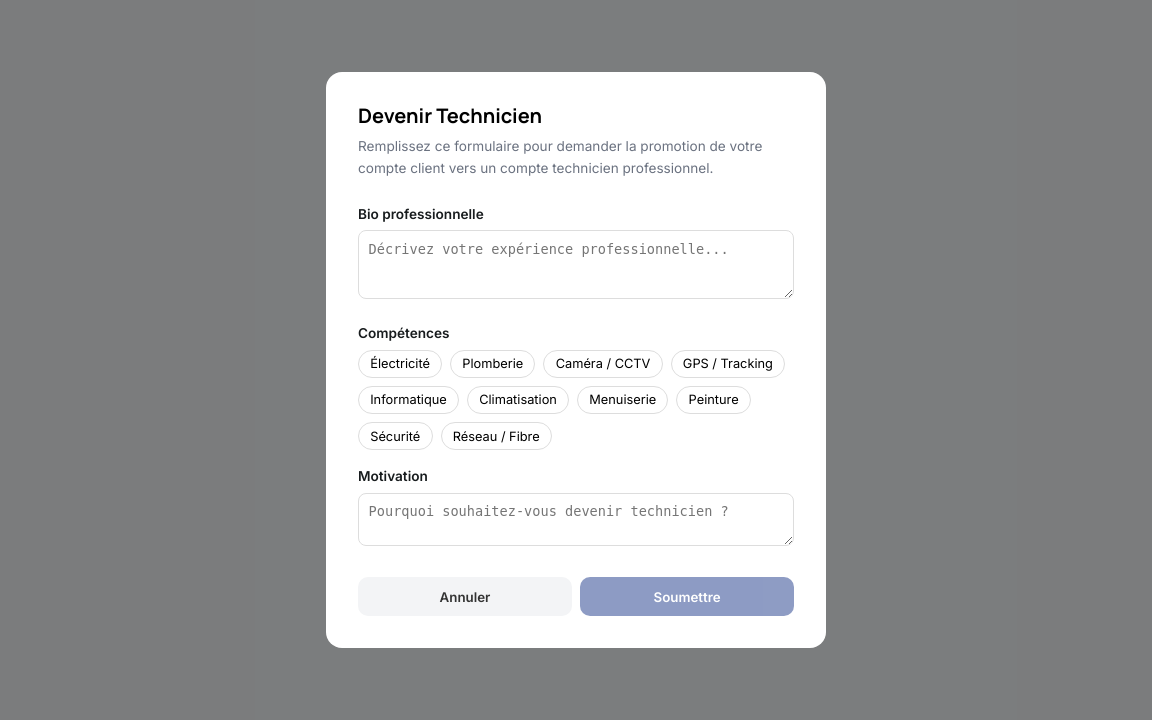
Test case: RoleUpgradeModal › désactive l'envoi tant qu'aucune compétence n'est choisie
Check: the button "Soumettre" is disabled, box [580,577,794,616]
Click the button "Plomberie" at (493, 364), box [450,350,535,378]
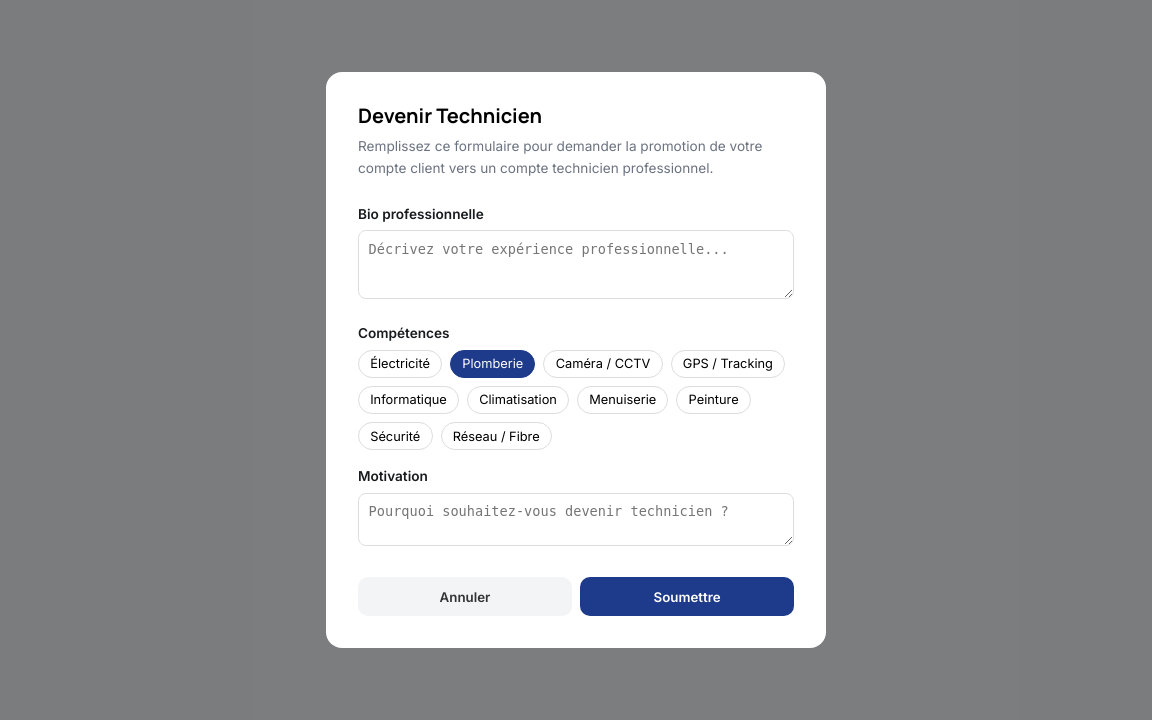
Check: the button "Soumettre" is enabled, box [580,577,794,616]
